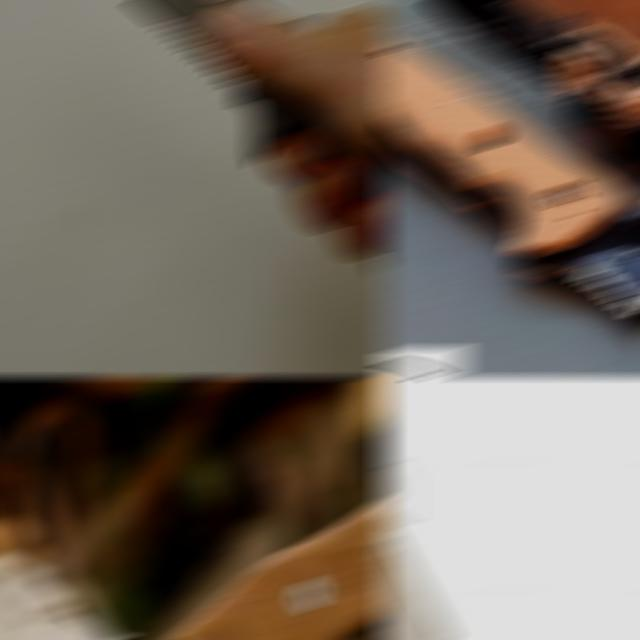Knife: (378, 39, 640, 311), (130, 2, 390, 192), (424, 2, 640, 158), (161, 498, 390, 638)
Knife_Handle: (378, 378, 566, 638)
